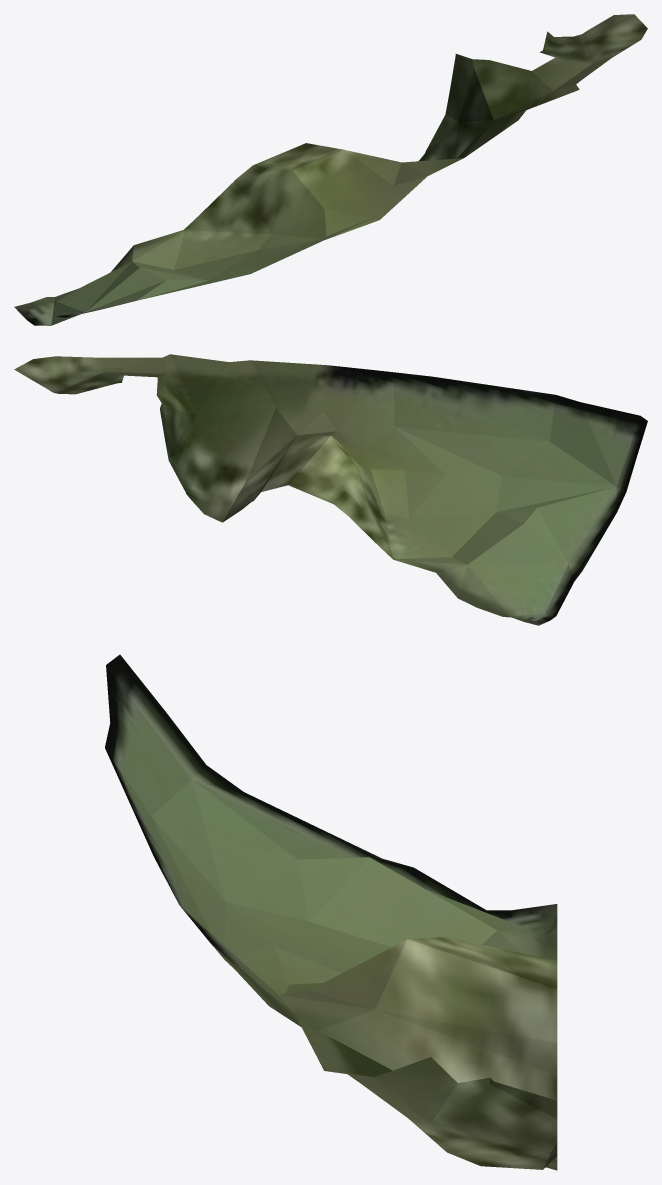
3 views of the same model, one above another, from view 1: azimuth 30°, elevation 25°; view 2: azimuth 150°, elevation 25°; view 3: azimuth 270°, elevation 25° (orthographic). The views are drawn at different scales.
Bounding box in the file's own units: 5.35 × 1.26 × 1.98.
1 material, 1 textured.
